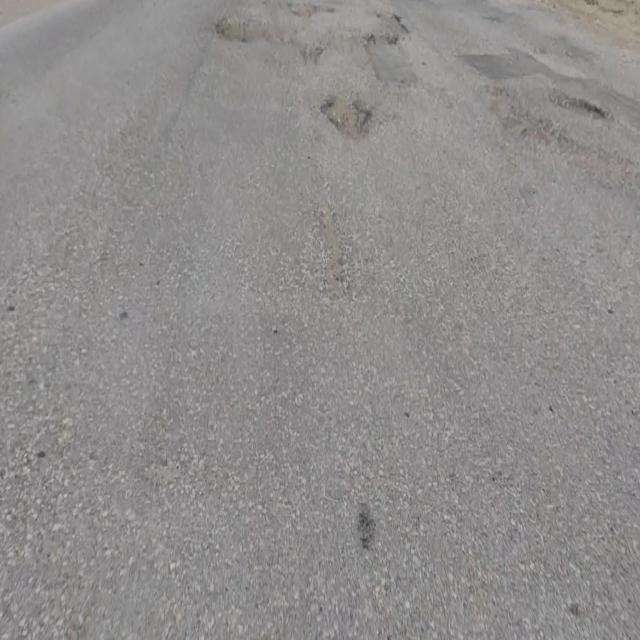Potholes: (318, 91, 372, 139), (212, 15, 276, 47), (362, 12, 411, 47), (289, 1, 335, 18)
